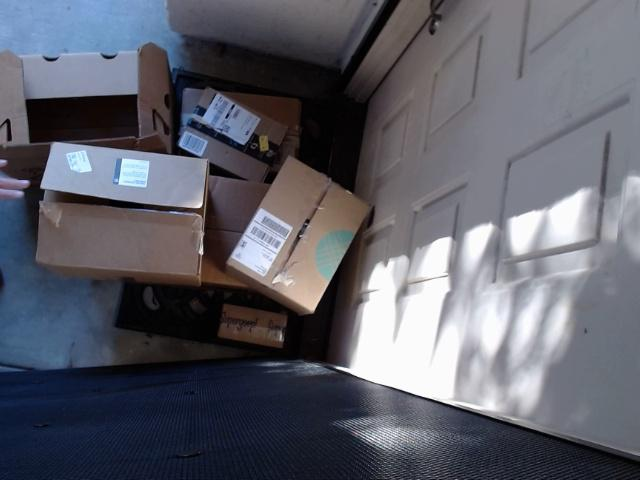box: (29, 134, 219, 312), (4, 38, 201, 188), (234, 161, 388, 335), (171, 60, 316, 189), (202, 295, 318, 391), (187, 81, 280, 186)
